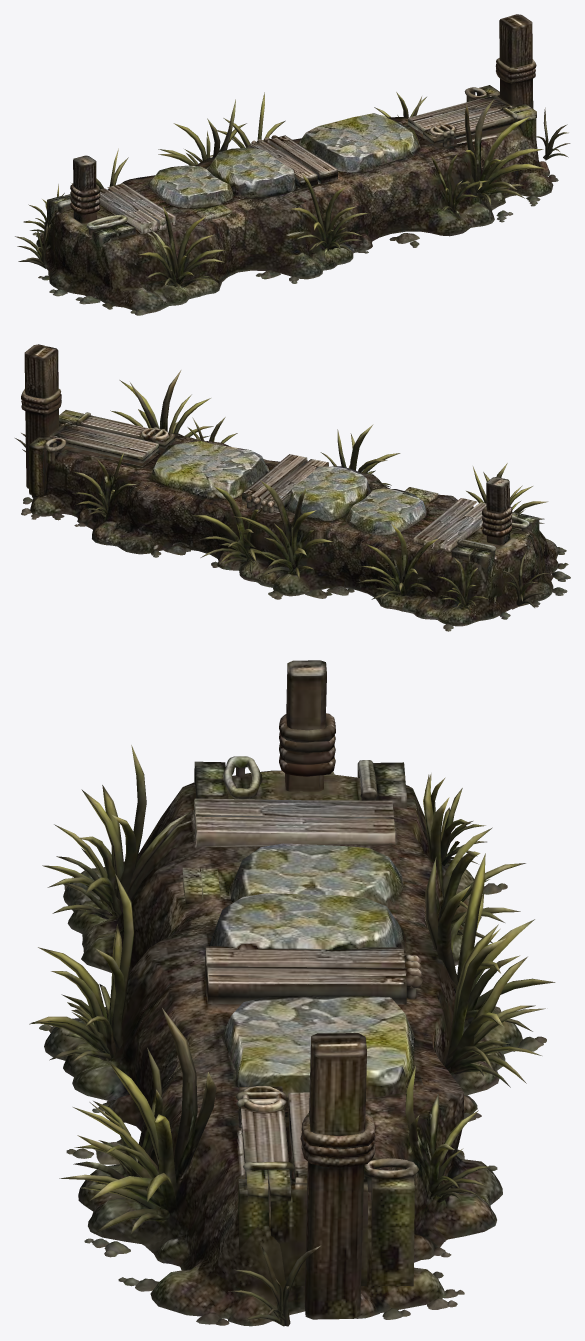
The model's file is act1-a06-1-causeway.glb.
3 renders of one model, top to bottom at view 1: azimuth 30°, elevation 25°; view 2: azimuth 150°, elevation 25°; view 3: azimuth 270°, elevation 25°, orthographic. The views are drawn at different scales.
Parts seen in each view (by area): view 1: act1-a06-1-causeway; view 2: act1-a06-1-causeway; view 3: act1-a06-1-causeway.
Part boxes in pixels (left/top/right/bottom): act1-a06-1-causeway: left=15, top=14, right=570, bottom=315; act1-a06-1-causeway: left=15, top=344, right=570, bottom=631; act1-a06-1-causeway: left=29, top=660, right=555, bottom=1326.
Size of the model in its own units: 4 by 0.9704 by 1.71.
1 material, 1 textured.
